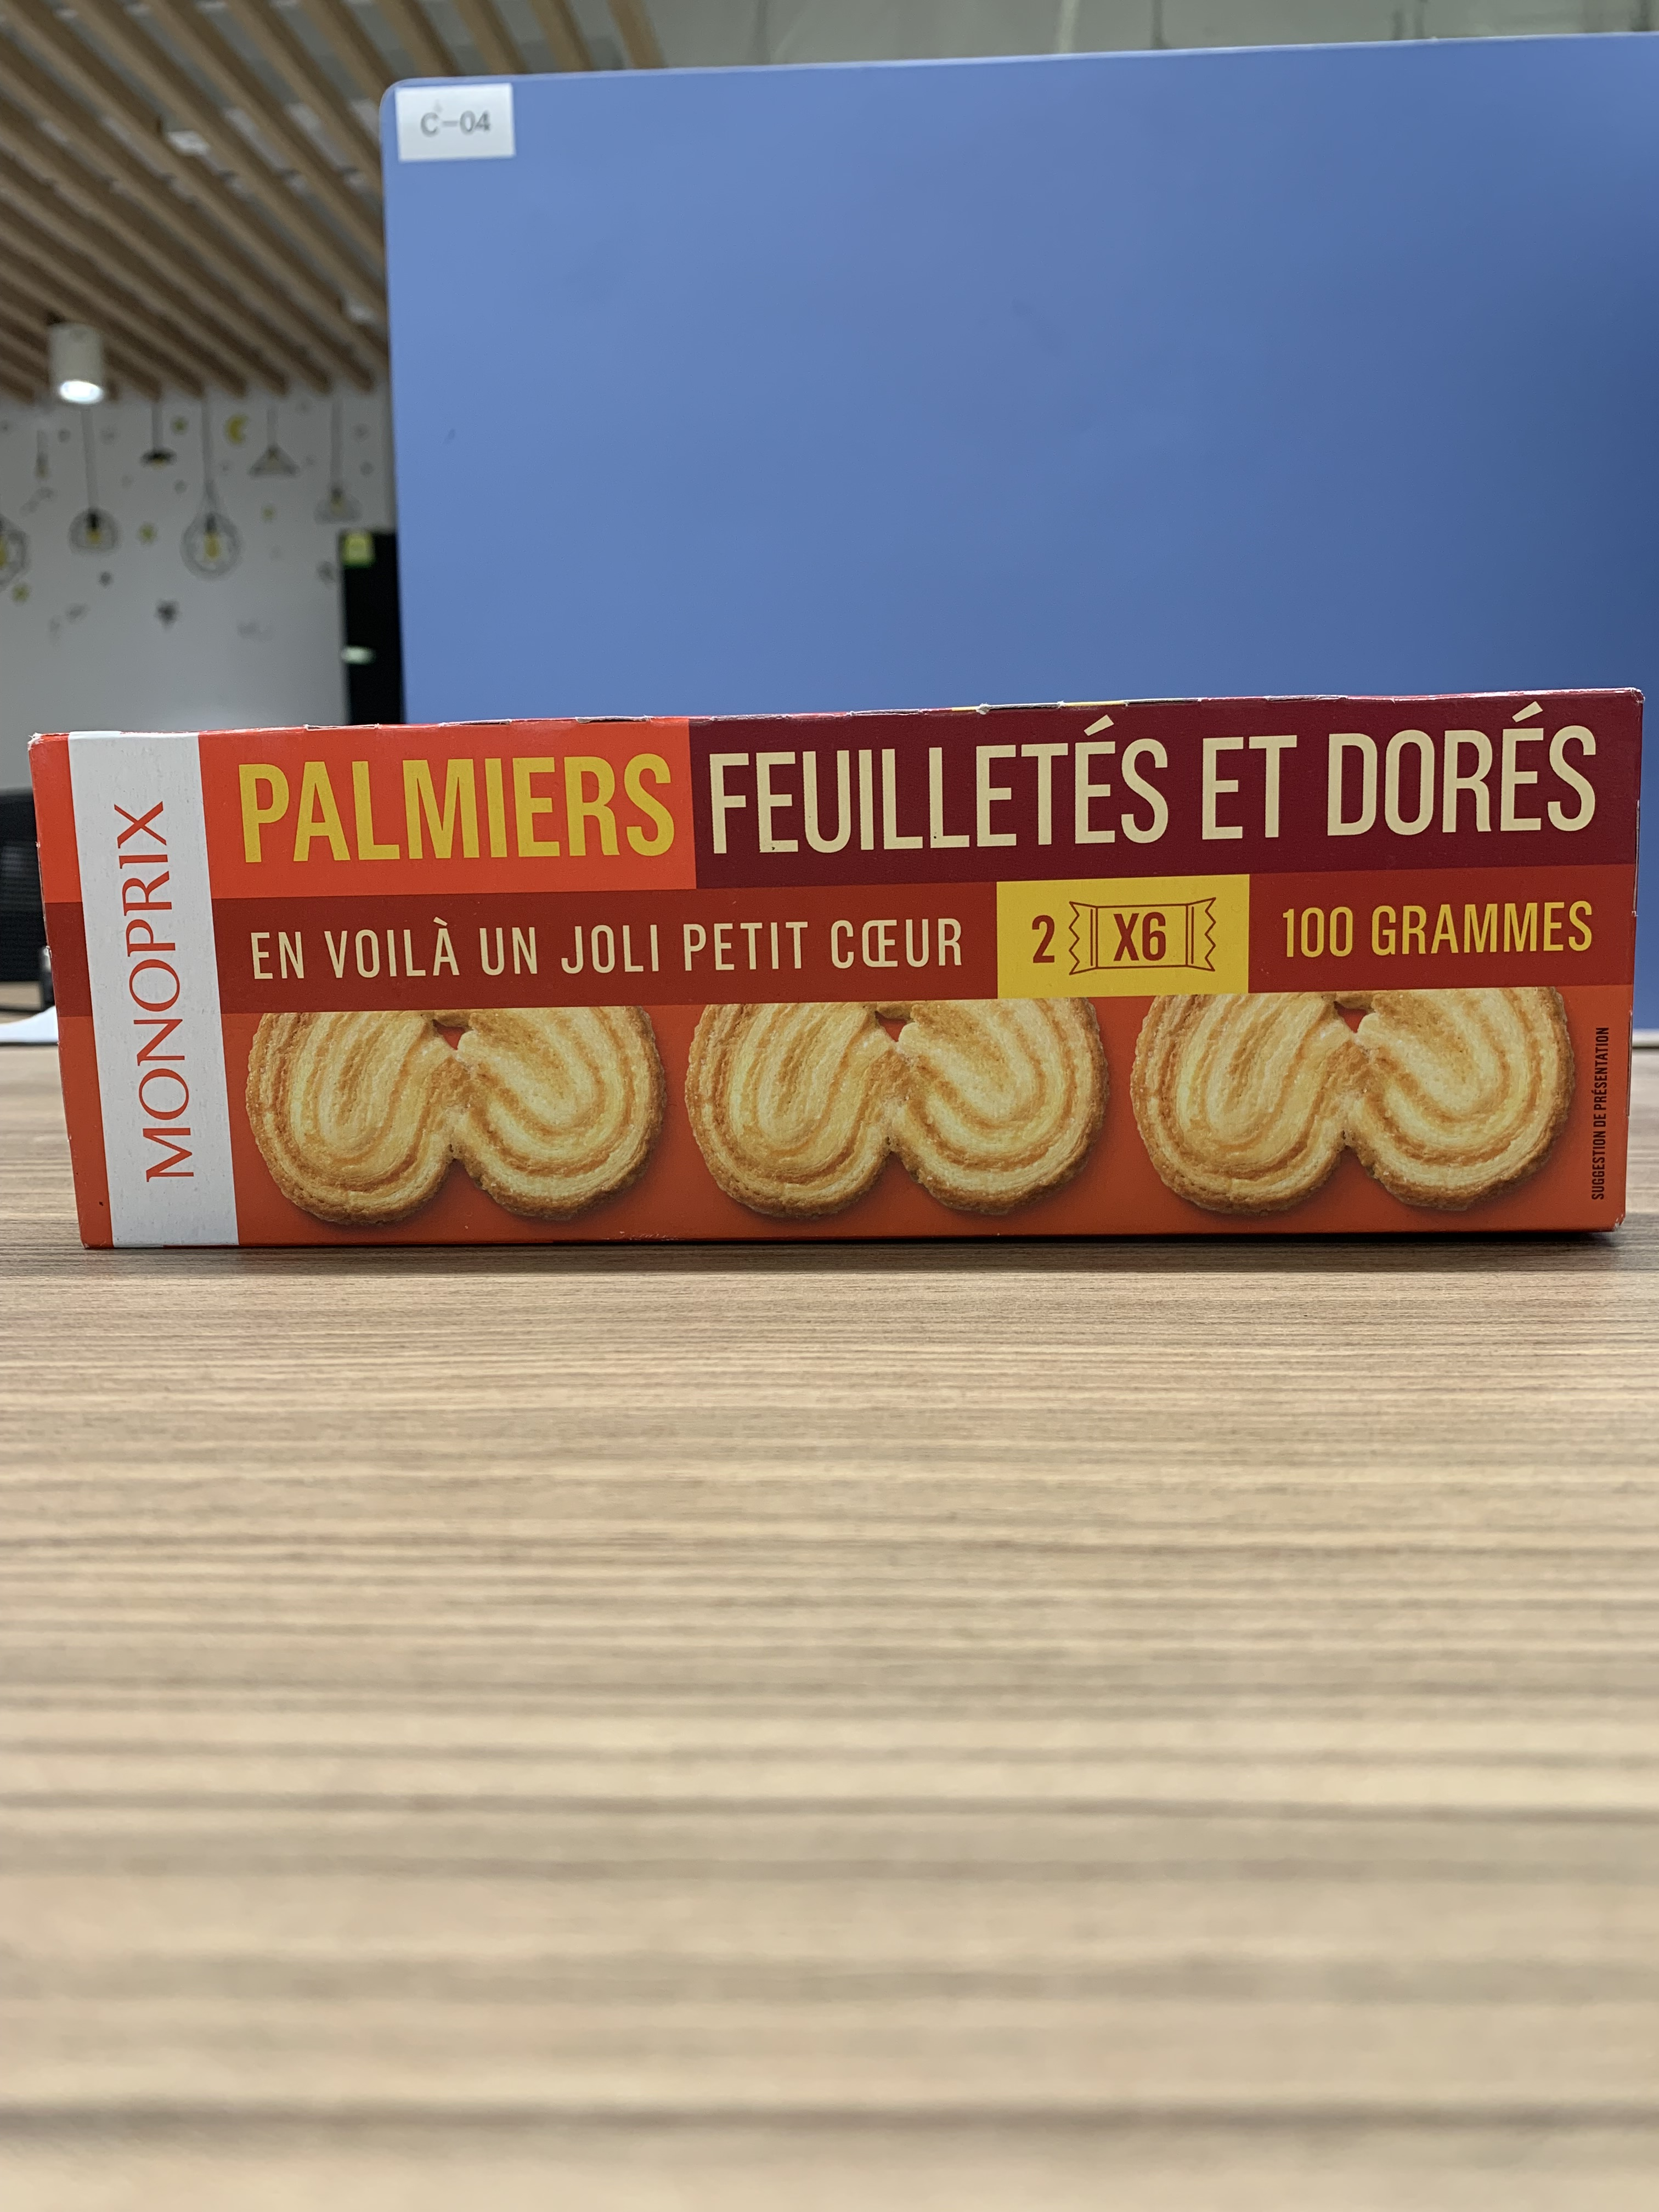cookies_100g-199g: (84, 716, 1615, 1219)
